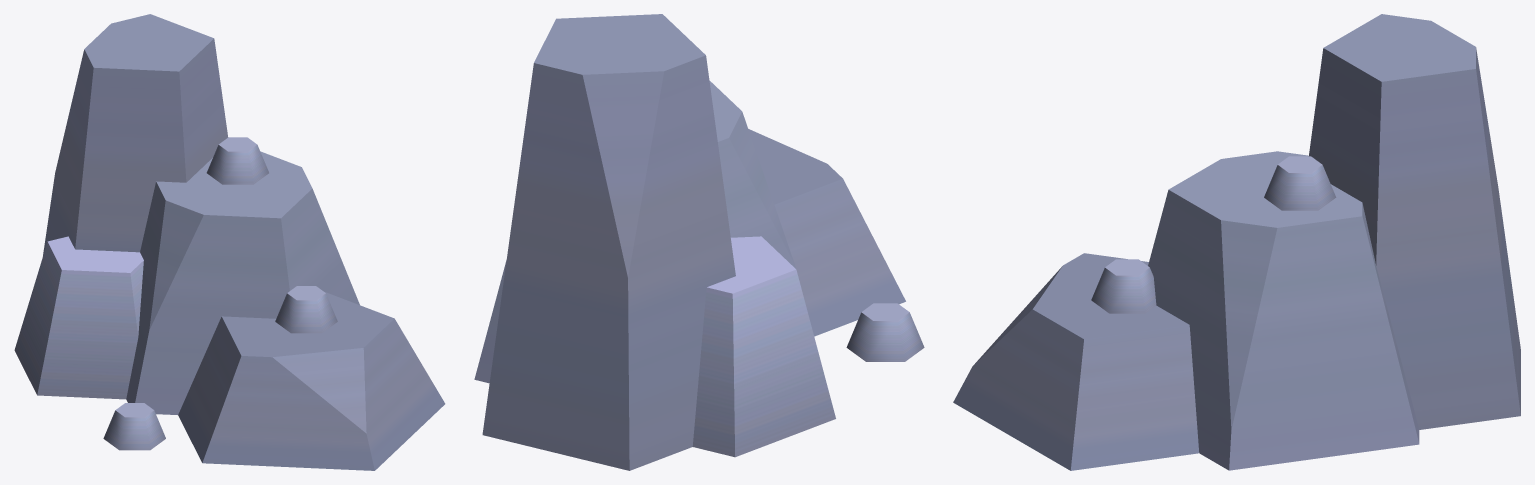
Rendered from rock-wide.glb.
3 views of the same model, side by side, from view 1: azimuth 30°, elevation 25°; view 2: azimuth 150°, elevation 25°; view 3: azimuth 270°, elevation 25° (orthographic). The views are drawn at different scales.
Visible parts, largest first — view 1: rock-wide; view 2: rock-wide; view 3: rock-wide.
Boxes of the visible parts, x1=… form: rock-wide: x1=14, y1=14, x2=445, y2=470; rock-wide: x1=474, y1=14, x2=924, y2=470; rock-wide: x1=953, y1=14, x2=1520, y2=470.
Size of the model in its own units: 1.09 by 1.02 by 1.57.
1 material, 1 textured.
